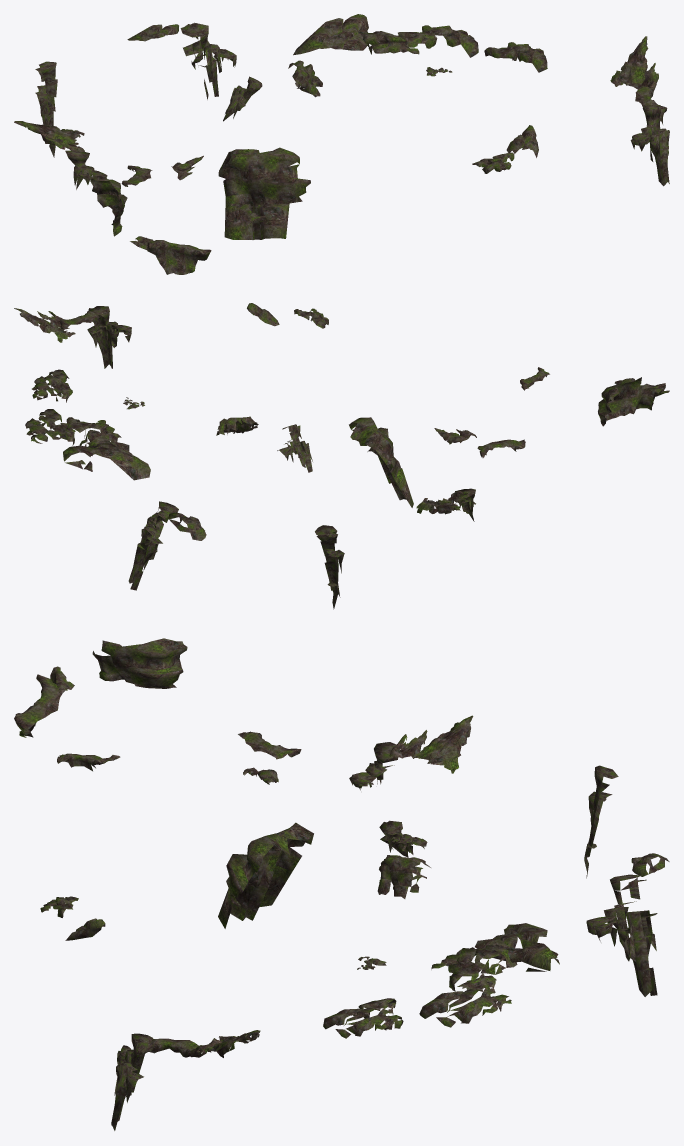
Rendered from S_Rock_Green026_A.FBX.
3 views of the same model, one above another, from view 1: azimuth 30°, elevation 25°; view 2: azimuth 150°, elevation 25°; view 3: azimuth 270°, elevation 25° (orthographic). The views are drawn at different scales.
Parts seen in each view (by area): view 1: S_Rock_Green029_002, S_Rock_Green030_001, S_Rock_Green027_004, S_Rock_Green027_006, S_Rock_Green026_002, S_Rock_Green033_002, S_Rock_Green069_002, S_Rock_Green027_003, S_Rock_Green029_001, S_Rock_Green033_003, S_Rock_Green069_003, S_Rock_Green033_004 (+7 smaller); view 2: S_Rock_Green029_002, S_Rock_Green029_001, S_Rock_Green030_001, S_Rock_Green027_006, S_Rock_Green027_004, S_Rock_Green027_003, S_Rock_Green033_004, S_Rock_Green033_002, S_Rock_Green033_003, S_Rock_Green027_005, S_Rock_Green069_002, S_Rock_Green069_003 (+3 smaller); view 3: S_Rock_Green029_002, S_Rock_Green027_006, S_Rock_Green029_001, S_Rock_Green033_004, S_Rock_Green069_003, S_Rock_Green030_001, S_Rock_Green033_002, S_Rock_Green033_003, S_Rock_Green027_004, S_Rock_Green029_003, S_Rock_Green026_001, S_Rock_Green026_002 (+4 smaller).
Boxes of the visible parts, box(x1,y1,x2,y2) form: S_Rock_Green029_002: box(218, 147, 310, 239); S_Rock_Green030_001: box(293, 14, 368, 55); S_Rock_Green027_004: box(630, 105, 669, 186); S_Rock_Green027_006: box(180, 22, 236, 99); S_Rock_Green026_002: box(147, 240, 211, 274); S_Rock_Green033_002: box(361, 31, 437, 54); S_Rock_Green069_002: box(610, 36, 658, 90); S_Rock_Green027_003: box(35, 61, 57, 157); S_Rock_Green029_001: box(88, 176, 127, 236); S_Rock_Green033_003: box(484, 42, 547, 72); S_Rock_Green069_003: box(14, 121, 84, 151); S_Rock_Green033_004: box(420, 25, 478, 57); S_Rock_Green029_002: box(349, 417, 413, 507); S_Rock_Green029_001: box(598, 377, 654, 426); S_Rock_Green030_001: box(63, 441, 150, 480); S_Rock_Green027_006: box(128, 501, 178, 590); S_Rock_Green027_004: box(87, 306, 131, 368); S_Rock_Green027_003: box(315, 525, 344, 609); S_Rock_Green033_004: box(25, 409, 75, 445); S_Rock_Green033_002: box(65, 417, 121, 456); S_Rock_Green033_003: box(32, 369, 72, 402); S_Rock_Green027_005: box(277, 424, 312, 472); S_Rock_Green069_002: box(14, 308, 75, 342); S_Rock_Green069_003: box(416, 491, 467, 514); S_Rock_Green029_002: box(218, 822, 313, 928); S_Rock_Green027_006: box(586, 874, 657, 996); S_Rock_Green029_001: box(92, 638, 187, 688); S_Rock_Green033_004: box(419, 975, 511, 1027); S_Rock_Green069_003: box(389, 715, 473, 773); S_Rock_Green030_001: box(475, 923, 559, 971); S_Rock_Green033_002: box(431, 945, 517, 991); S_Rock_Green033_003: box(323, 998, 403, 1038); S_Rock_Green027_004: box(111, 1033, 153, 1130); S_Rock_Green029_003: box(377, 855, 430, 898); S_Rock_Green026_001: box(57, 753, 222, 1057); S_Rock_Green026_002: box(14, 674, 65, 737).
Size of the model in its own units: 14532 by 11024 by 3206.
